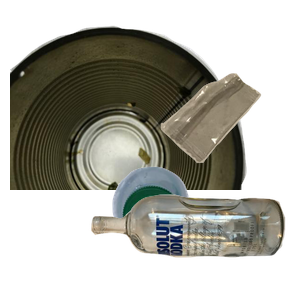glass: (88, 192, 300, 300)
metal: (10, 23, 250, 203)
plastic: (110, 164, 300, 300)
trash: (158, 71, 300, 227)
